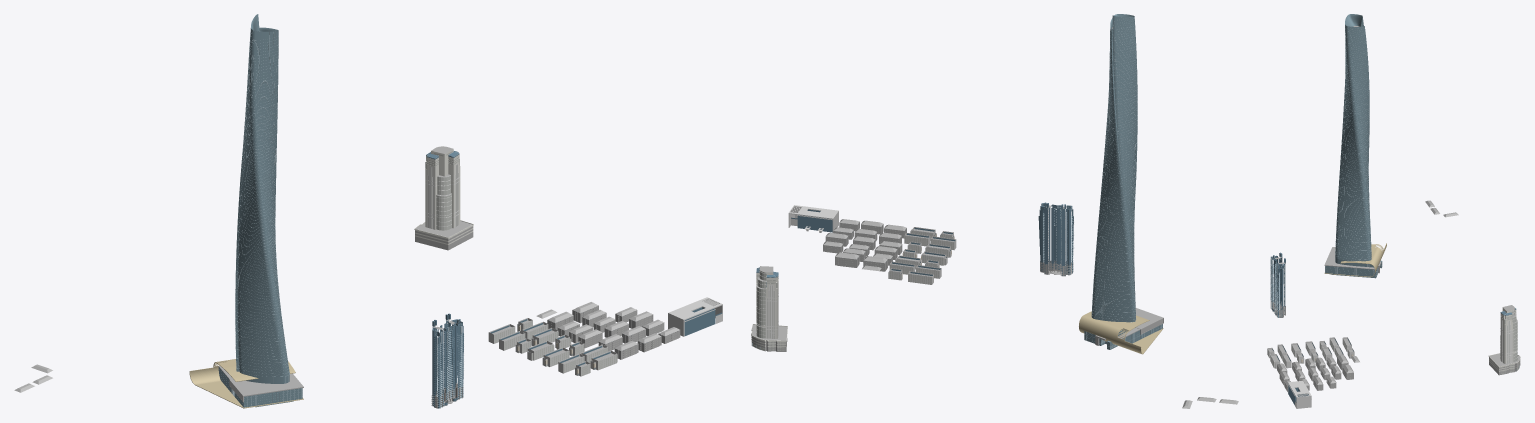
The model's file is lujiazui-7.glb.
The picture shows the model from 3 angles, left to right: view 1: azimuth 30°, elevation 25°; view 2: azimuth 150°, elevation 25°; view 3: azimuth 270°, elevation 25°; orthographic projection. The views are drawn at different scales.
Visible parts, largest first — view 1: source_2123_Mat3d66-1303573-2164-8748_part0, source_2101_Mat3d66-1303573-2050-6500_part0, source_2122_Mat3d66-1303573-2119-613_part0, source_2098_Mat3d66-1303573-2047-6861_part0, source_2073_Mat3d66-1303573-2170-3213_part0, source_2096_Mat3d66-1303573-2041-1206_part0, source_2116_Mat3d66-1303573-116-7821_part0, source_2092__part0, source_2119_Mat3d66-1303573-2043-4881_part0, source_2111_Mat3d66-1303573-114-6796_part0, source_2091_Mat3d66-1303573-2170-3213_part0, source_2071_Mat3d66-1303573-2119-613_part0 (+4 smaller); view 2: source_2123_Mat3d66-1303573-2164-8748_part0, source_2101_Mat3d66-1303573-2050-6500_part0, source_2122_Mat3d66-1303573-2119-613_part0, source_2073_Mat3d66-1303573-2170-3213_part0, source_2096_Mat3d66-1303573-2041-1206_part0, source_2098_Mat3d66-1303573-2047-6861_part0, source_2119_Mat3d66-1303573-2043-4881_part0, source_2092__part0, source_2091_Mat3d66-1303573-2170-3213_part0, source_2116_Mat3d66-1303573-116-7821_part0, source_2111_Mat3d66-1303573-114-6796_part0, source_2107__part0 (+1 smaller); view 3: source_2123_Mat3d66-1303573-2164-8748_part0, source_2101_Mat3d66-1303573-2050-6500_part0, source_2122_Mat3d66-1303573-2119-613_part0, source_2096_Mat3d66-1303573-2041-1206_part0, source_2098_Mat3d66-1303573-2047-6861_part0, source_2073_Mat3d66-1303573-2170-3213_part0, source_2116_Mat3d66-1303573-116-7821_part0, source_2111_Mat3d66-1303573-114-6796_part0, source_2119_Mat3d66-1303573-2043-4881_part0, source_2090_Mat3d66-1303573-2153-4388_part0, source_2114__part0, source_2071_Mat3d66-1303573-2119-613_part0 (+2 smaller).
Boxes of the visible parts, bbox=[...] form: source_2123_Mat3d66-1303573-2164-8748_part0: bbox=[218, 14, 302, 407]; source_2101_Mat3d66-1303573-2050-6500_part0: bbox=[488, 297, 722, 376]; source_2122_Mat3d66-1303573-2119-613_part0: bbox=[219, 28, 301, 407]; source_2098_Mat3d66-1303573-2047-6861_part0: bbox=[547, 305, 680, 359]; source_2073_Mat3d66-1303573-2170-3213_part0: bbox=[432, 313, 463, 408]; source_2096_Mat3d66-1303573-2041-1206_part0: bbox=[14, 302, 679, 392]; source_2116_Mat3d66-1303573-116-7821_part0: bbox=[414, 146, 473, 244]; source_2092__part0: bbox=[494, 321, 616, 375]; source_2119_Mat3d66-1303573-2043-4881_part0: bbox=[189, 359, 303, 408]; source_2111_Mat3d66-1303573-114-6796_part0: bbox=[425, 164, 460, 229]; source_2091_Mat3d66-1303573-2170-3213_part0: bbox=[490, 307, 715, 375]; source_2071_Mat3d66-1303573-2119-613_part0: bbox=[435, 319, 463, 408]; source_2123_Mat3d66-1303573-2164-8748_part0: bbox=[1084, 14, 1162, 349]; source_2101_Mat3d66-1303573-2050-6500_part0: bbox=[788, 205, 956, 284]; source_2122_Mat3d66-1303573-2119-613_part0: bbox=[1084, 17, 1162, 348]; source_2073_Mat3d66-1303573-2170-3213_part0: bbox=[1038, 202, 1073, 275]; source_2096_Mat3d66-1303573-2041-1206_part0: bbox=[823, 219, 1238, 408]; source_2098_Mat3d66-1303573-2047-6861_part0: bbox=[823, 220, 906, 271]; source_2119_Mat3d66-1303573-2043-4881_part0: bbox=[1079, 311, 1163, 354]; source_2092__part0: bbox=[890, 231, 953, 284]; source_2091_Mat3d66-1303573-2170-3213_part0: bbox=[797, 209, 955, 275]; source_2116_Mat3d66-1303573-116-7821_part0: bbox=[751, 270, 787, 349]; source_2111_Mat3d66-1303573-114-6796_part0: bbox=[756, 271, 778, 338]; source_2107__part0: bbox=[752, 271, 766, 350]; source_2123_Mat3d66-1303573-2164-8748_part0: bbox=[1325, 14, 1381, 278]; source_2101_Mat3d66-1303573-2050-6500_part0: bbox=[1267, 337, 1354, 408]; source_2122_Mat3d66-1303573-2119-613_part0: bbox=[1325, 25, 1382, 277]; source_2096_Mat3d66-1303573-2041-1206_part0: bbox=[1277, 200, 1458, 386]; source_2098_Mat3d66-1303573-2047-6861_part0: bbox=[1277, 356, 1353, 391]; source_2073_Mat3d66-1303573-2170-3213_part0: bbox=[1270, 252, 1285, 317]; source_2116_Mat3d66-1303573-116-7821_part0: bbox=[1488, 307, 1520, 371]; source_2111_Mat3d66-1303573-114-6796_part0: bbox=[1500, 309, 1517, 363]; source_2119_Mat3d66-1303573-2043-4881_part0: bbox=[1324, 243, 1386, 277]; source_2090_Mat3d66-1303573-2153-4388_part0: bbox=[1268, 338, 1353, 361]; source_2114__part0: bbox=[1501, 309, 1516, 363]; source_2071_Mat3d66-1303573-2119-613_part0: bbox=[1270, 255, 1281, 317].
Size of the model in its own units: 1080 by 632 by 569.
